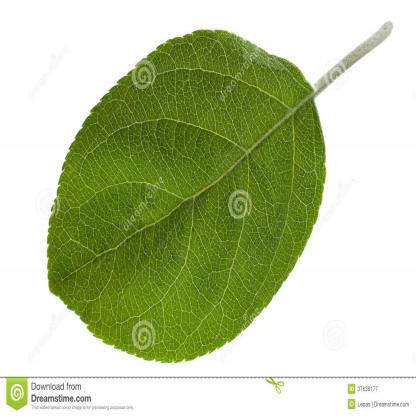Apple leaf: (42, 23, 335, 370)
